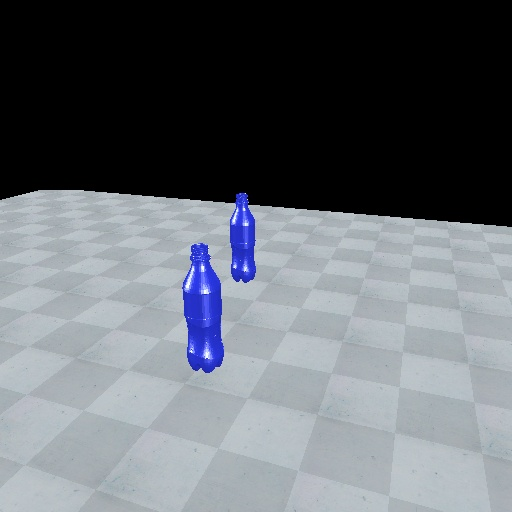bottle: (180, 242, 227, 375), (227, 190, 258, 285)
